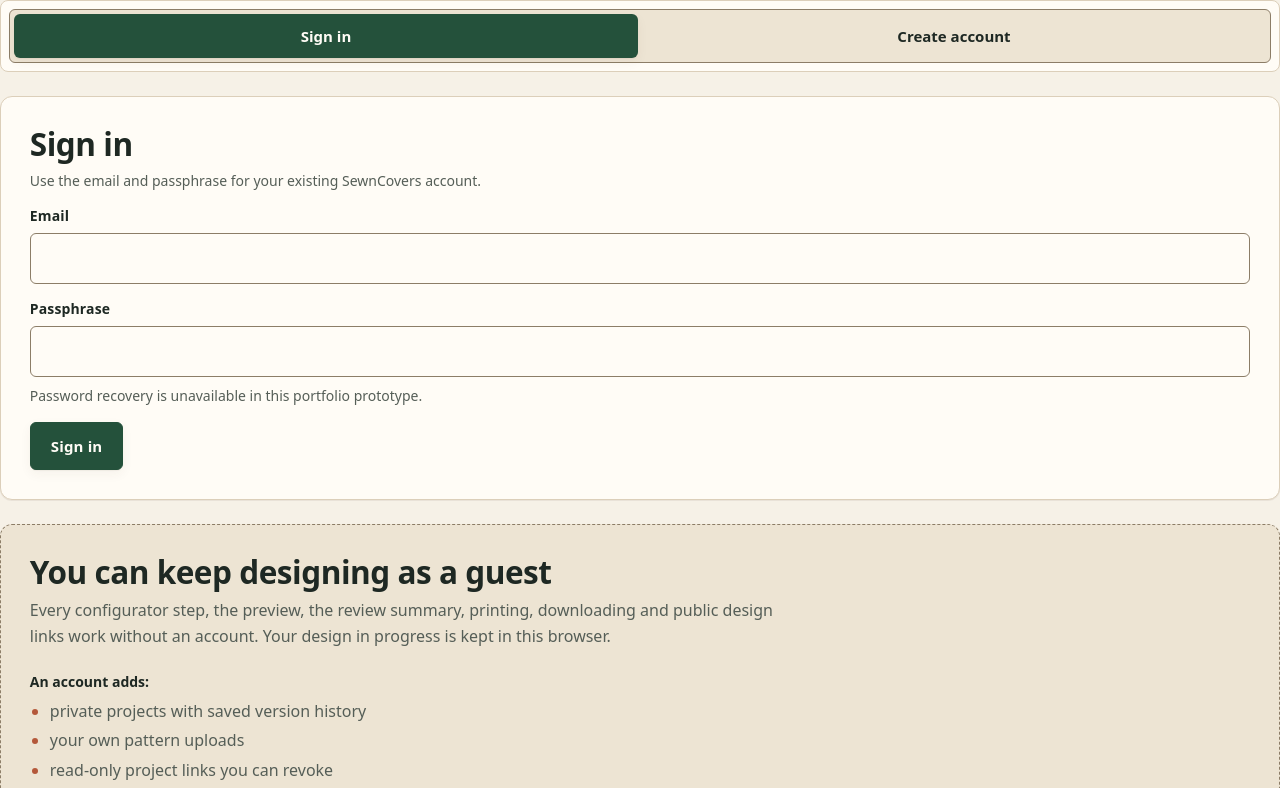
it: associates local authentication errors and focuses the first invalid field
Expected: the heading "Sign in" is shown, [30,126,133,162]
Click the button "Sign in" at x=77, y=446, box [30,422,123,470]
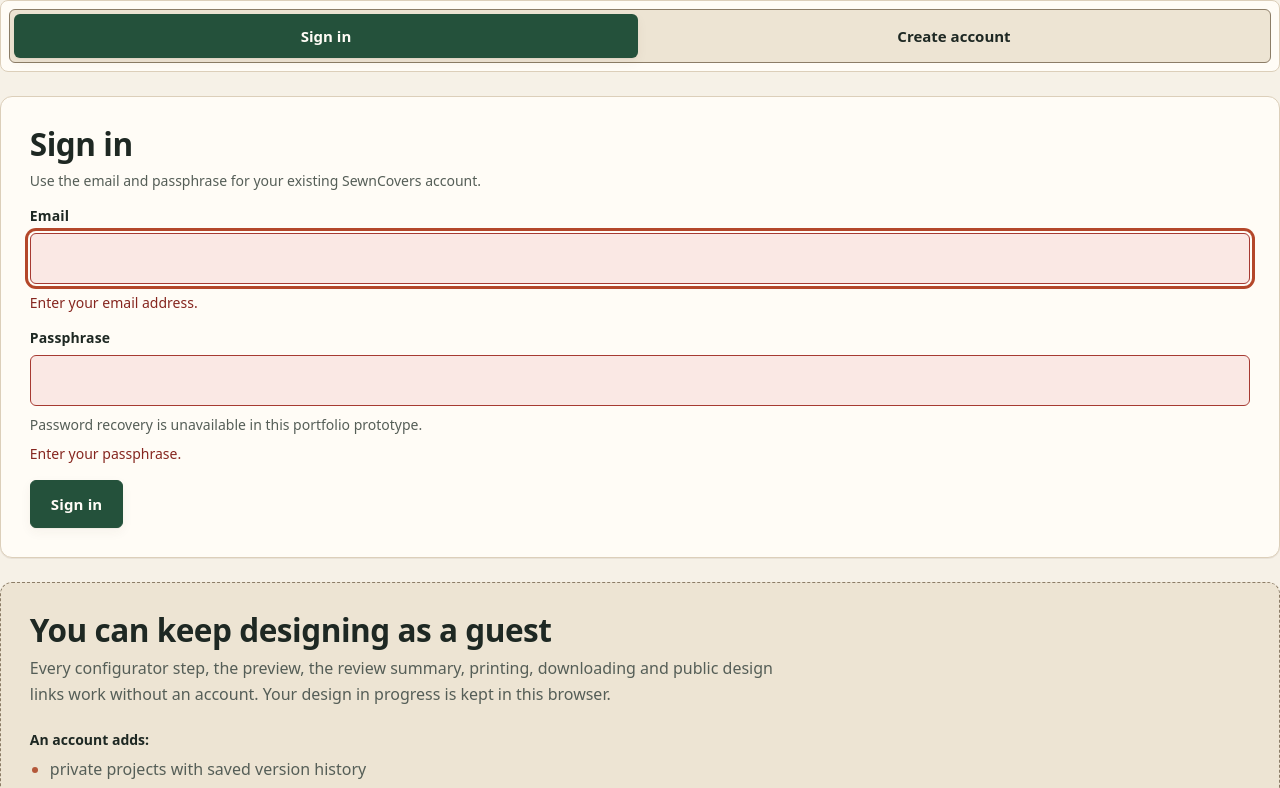
Expected: the text "Enter your email address." is shown, [30,293,198,312]
Type "not-an-email" into the field labelled "Email" at x=640, y=258, box [30,232,1250,284]
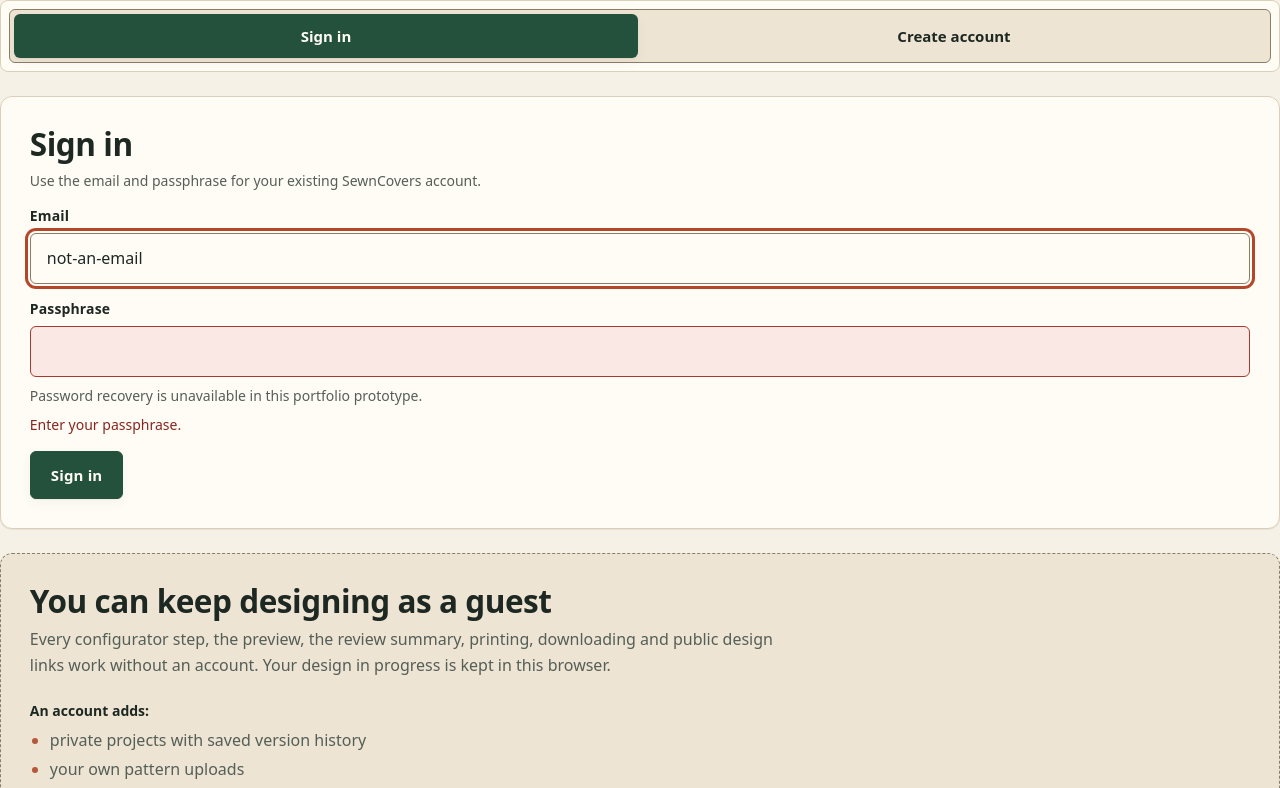
Type "a sufficiently long passphrase" into the password field labelled "Passphrase" at x=640, y=351, box [30,326,1250,377]
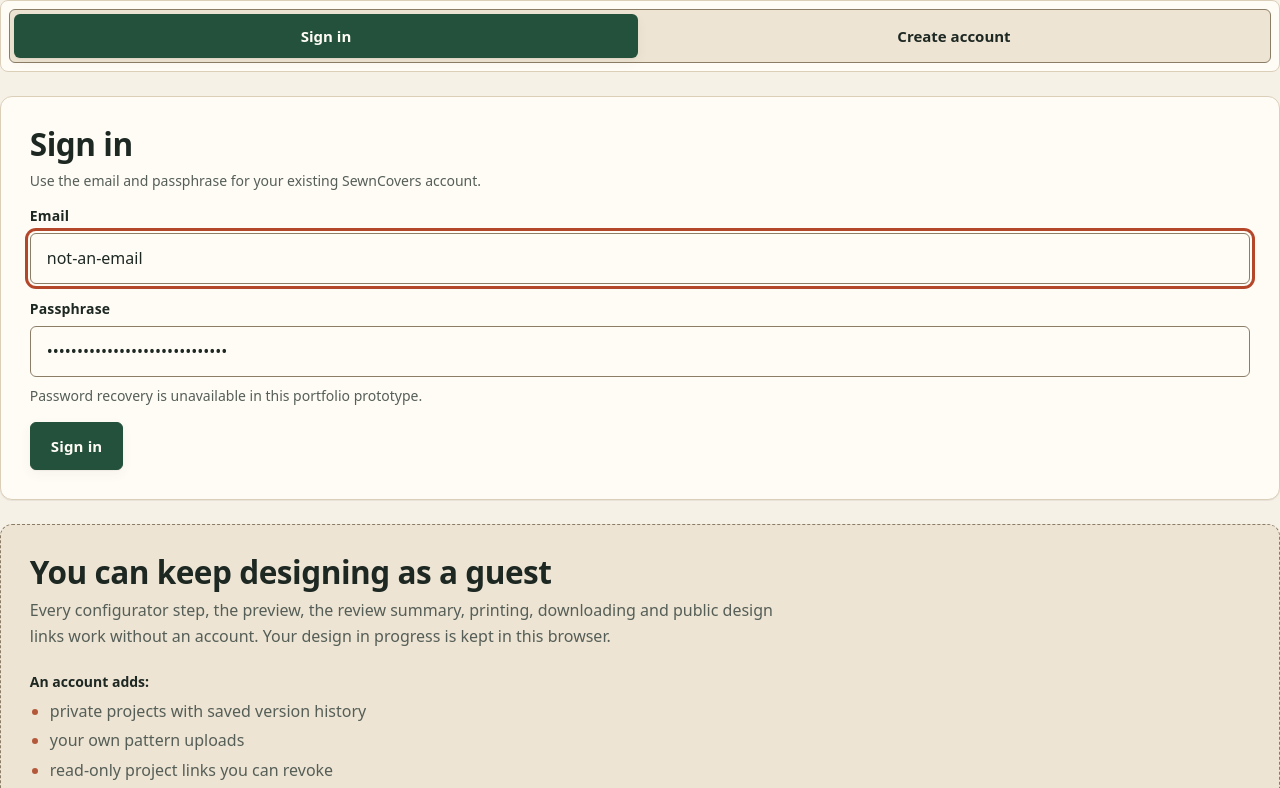
Click the button "Sign in" at x=77, y=446, box [30,422,123,470]
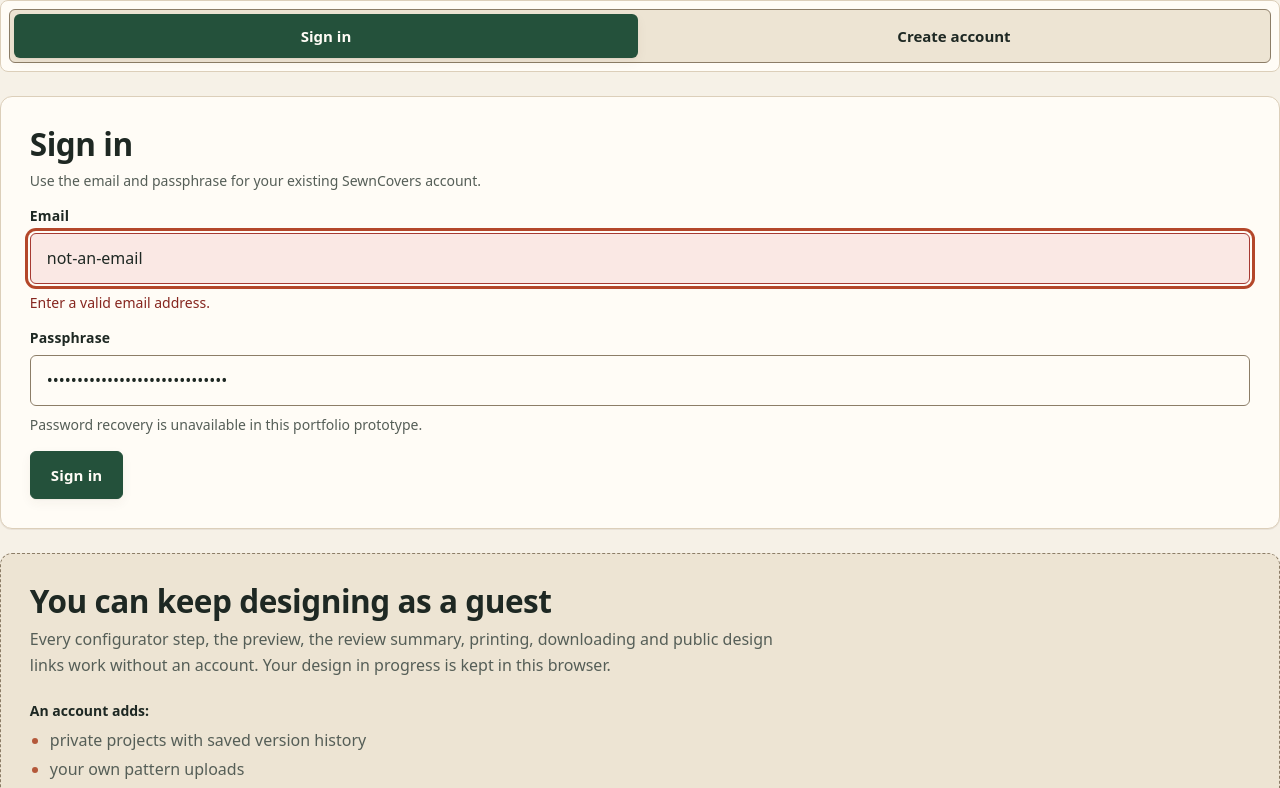
Expected: the text "Enter a valid email address." is shown, [30,293,210,312]
